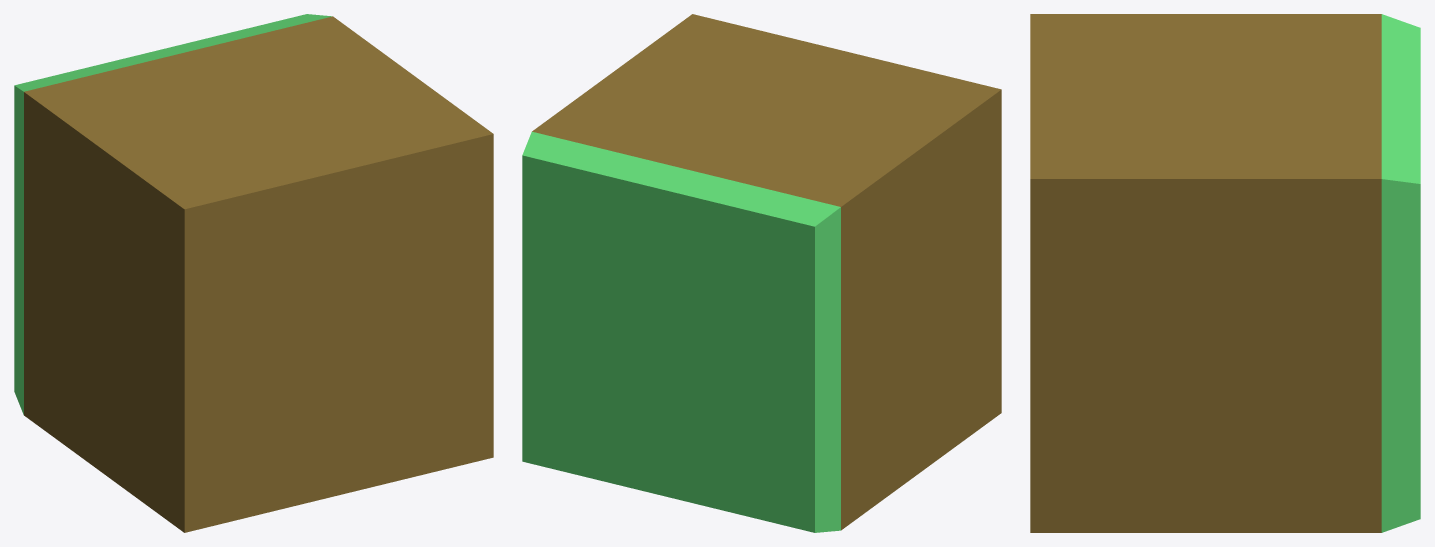
File: BaseTile_01.fbx
3 views of the same model, side by side, from view 1: azimuth 30°, elevation 25°; view 2: azimuth 150°, elevation 25°; view 3: azimuth 270°, elevation 25° (orthographic). The views are drawn at different scales.
Parts seen in each view (by area): view 1: Cube; view 2: Cube; view 3: Cube.
Part boxes in pixels (box(x1,y1,x2,y2)): Cube: box(14, 14, 493, 532); Cube: box(522, 14, 1001, 532); Cube: box(1030, 14, 1420, 532).
Size of the model in its own units: 200 by 200 by 200.
